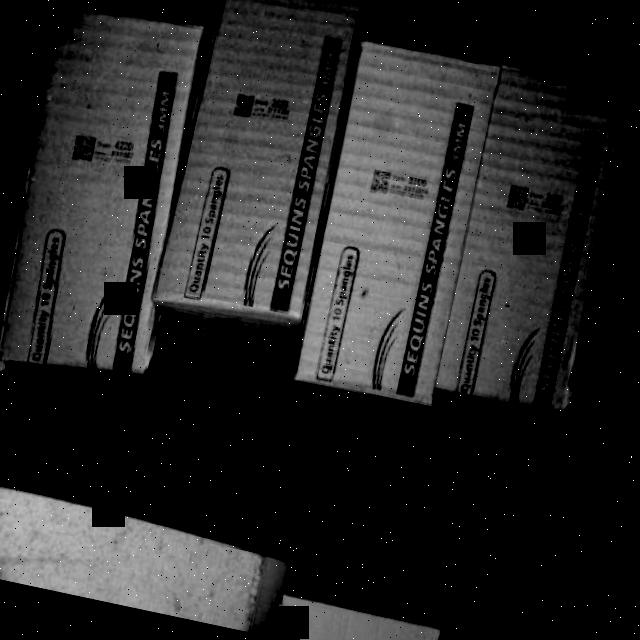box: (0, 7, 215, 375), (433, 61, 638, 422), (298, 47, 503, 400), (162, 0, 361, 323)
